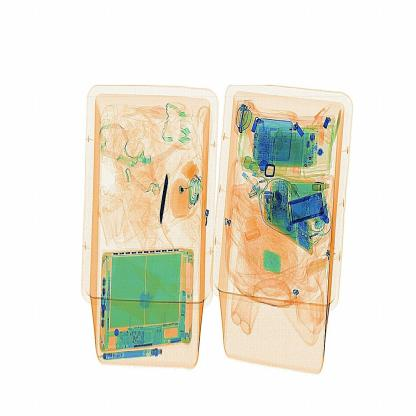wrench: (158, 173, 173, 228)
